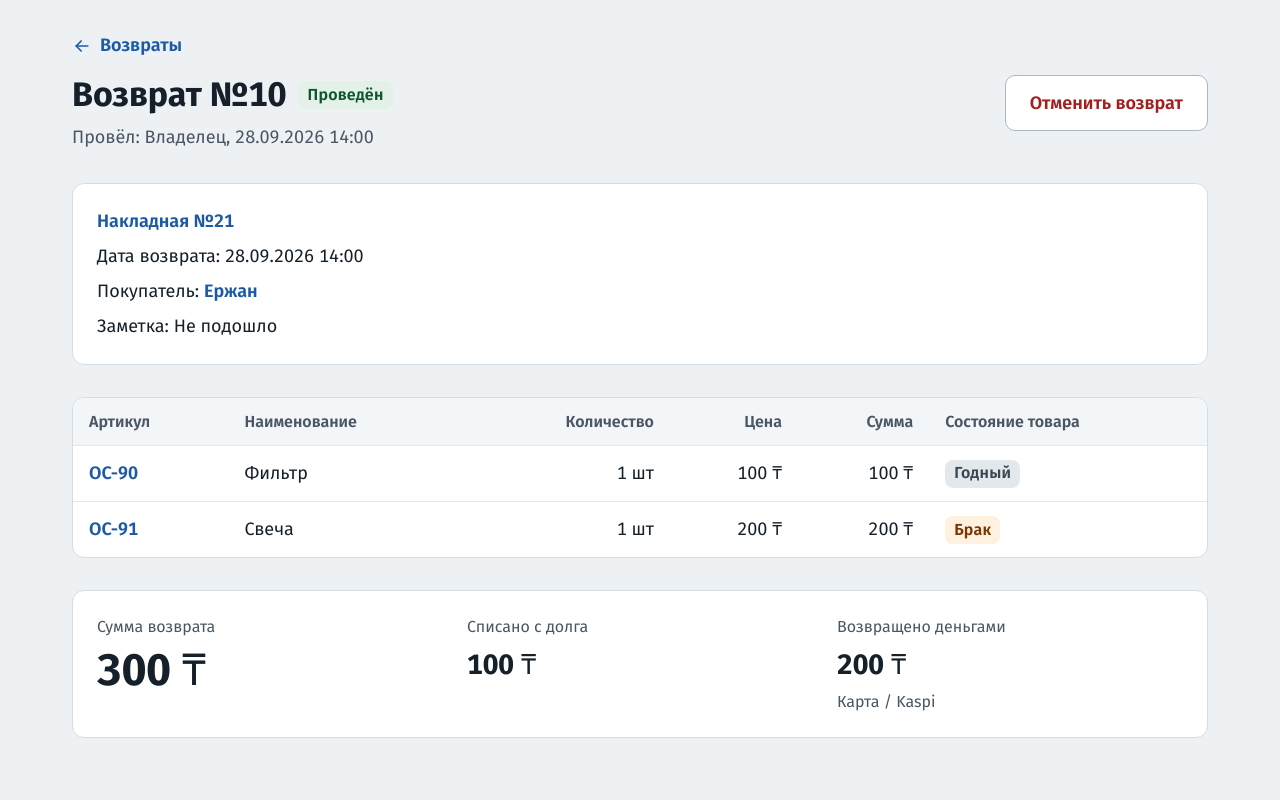
Test: shows shortage items when cancellation is blocked
Click the button "Отменить возврат". click: (1106,103)
box: x1=1005 y1=75 x2=1208 y2=131
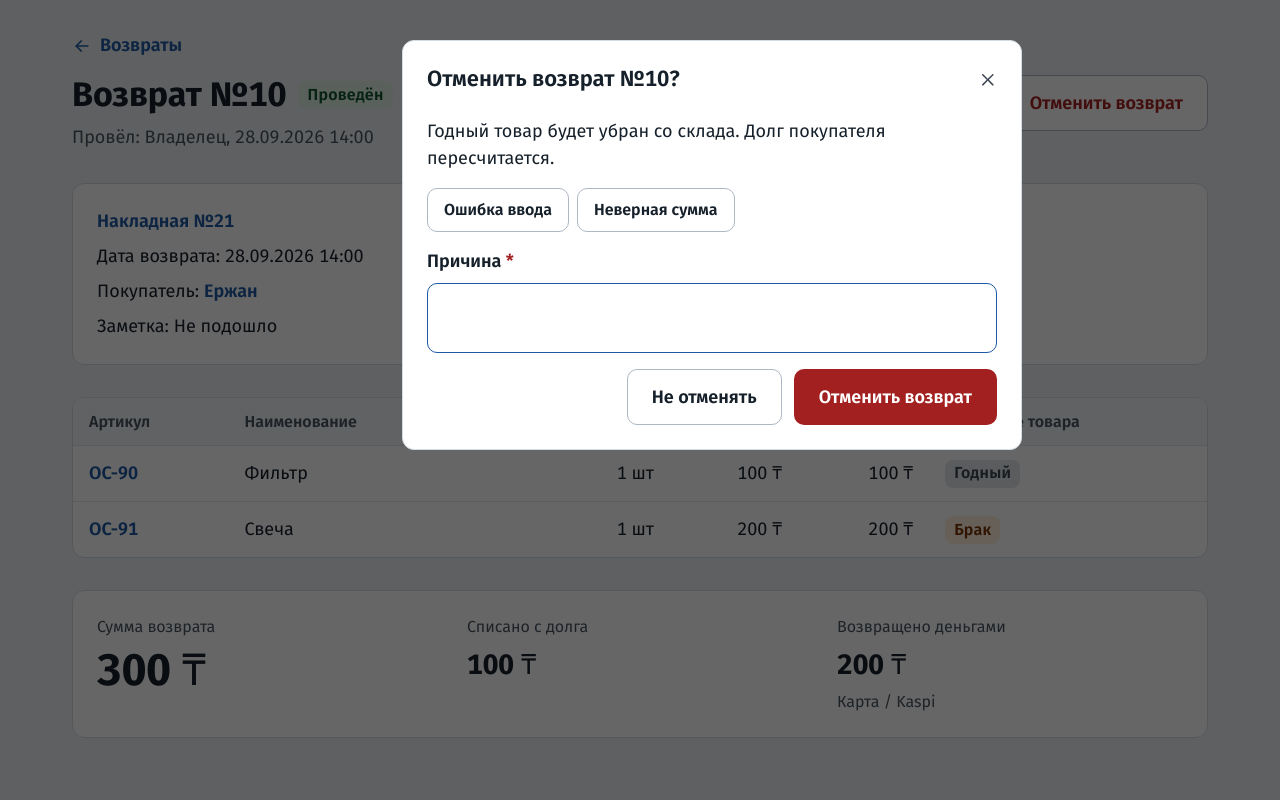
Click the button "Ошибка ввода". click: (498,210)
box: x1=427 y1=188 x2=569 y2=232
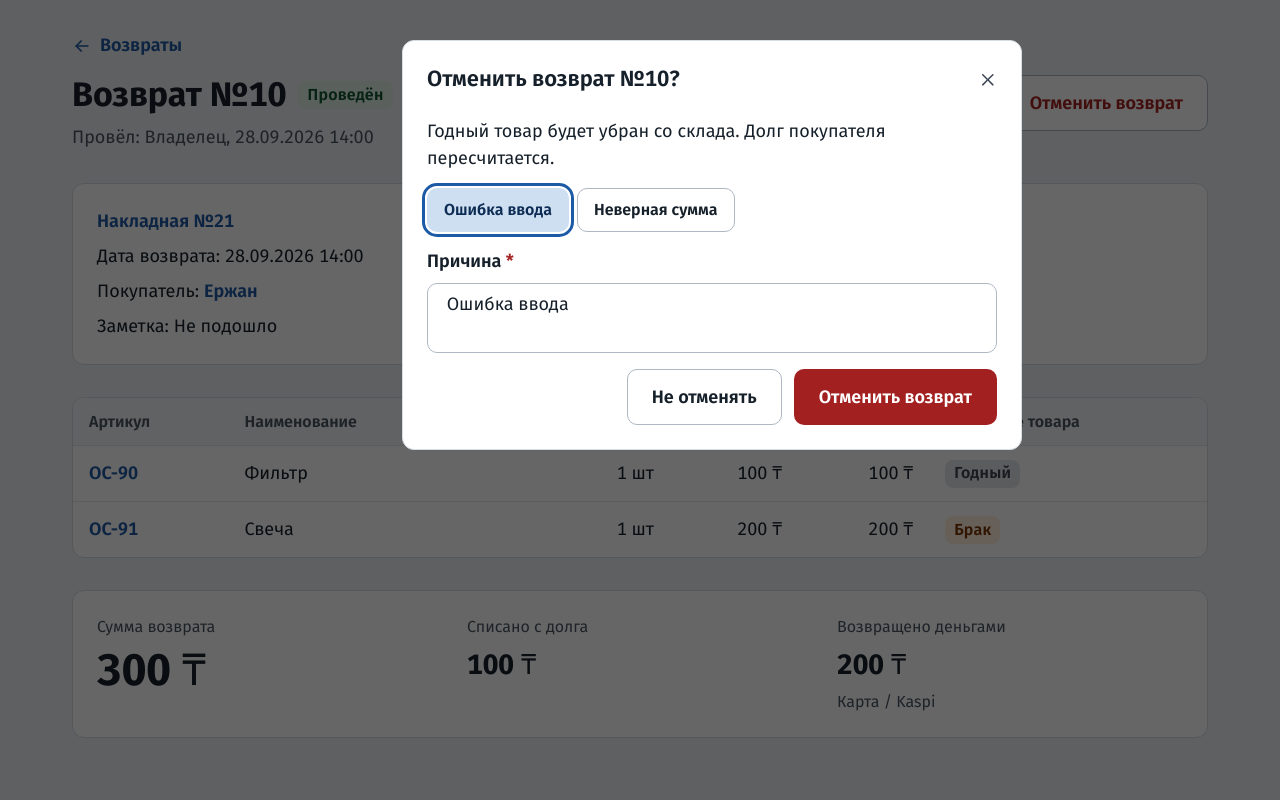
Click the button "Отменить возврат". click: (895,397)
box: x1=794 y1=369 x2=997 y2=425
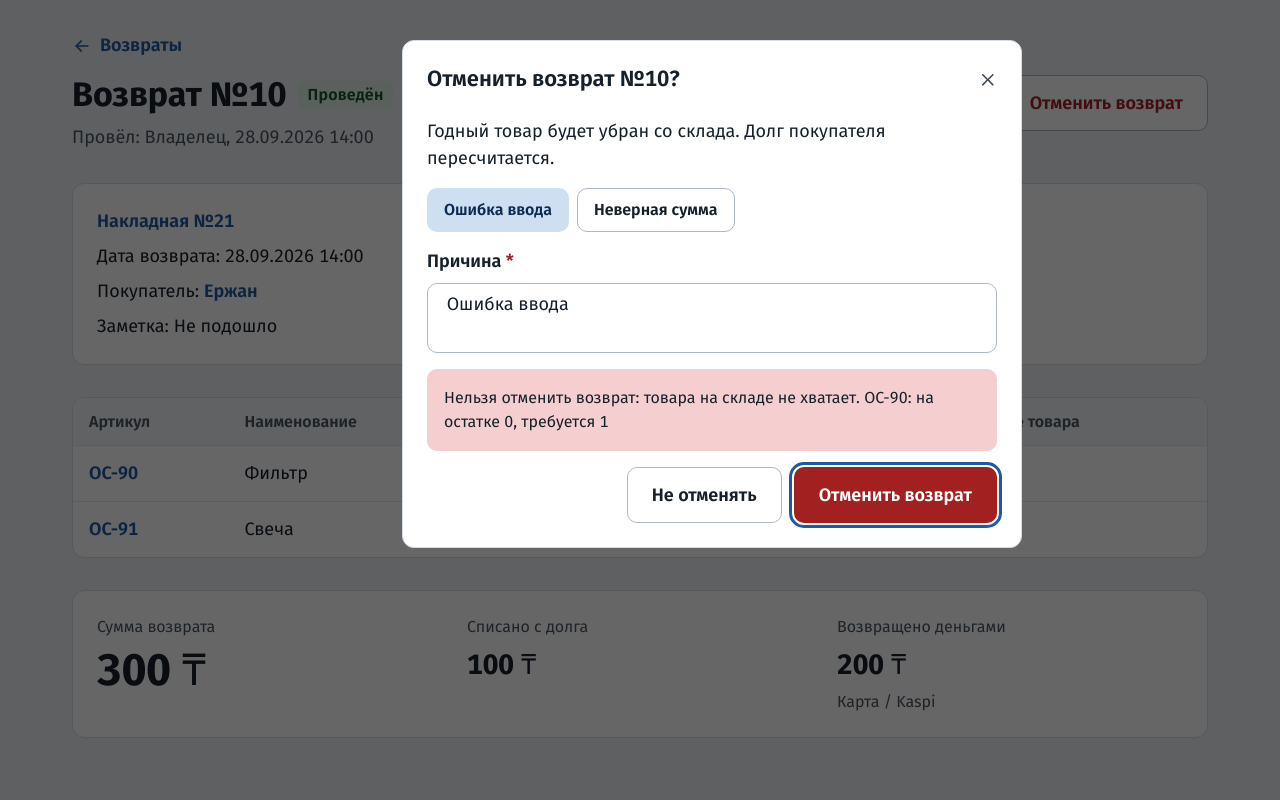
Now the message shows "OC-90", box x1=444 y1=388 x2=934 y2=431
Now the message shows "на остатке 0, требуется 1", box x1=444 y1=388 x2=934 y2=431
